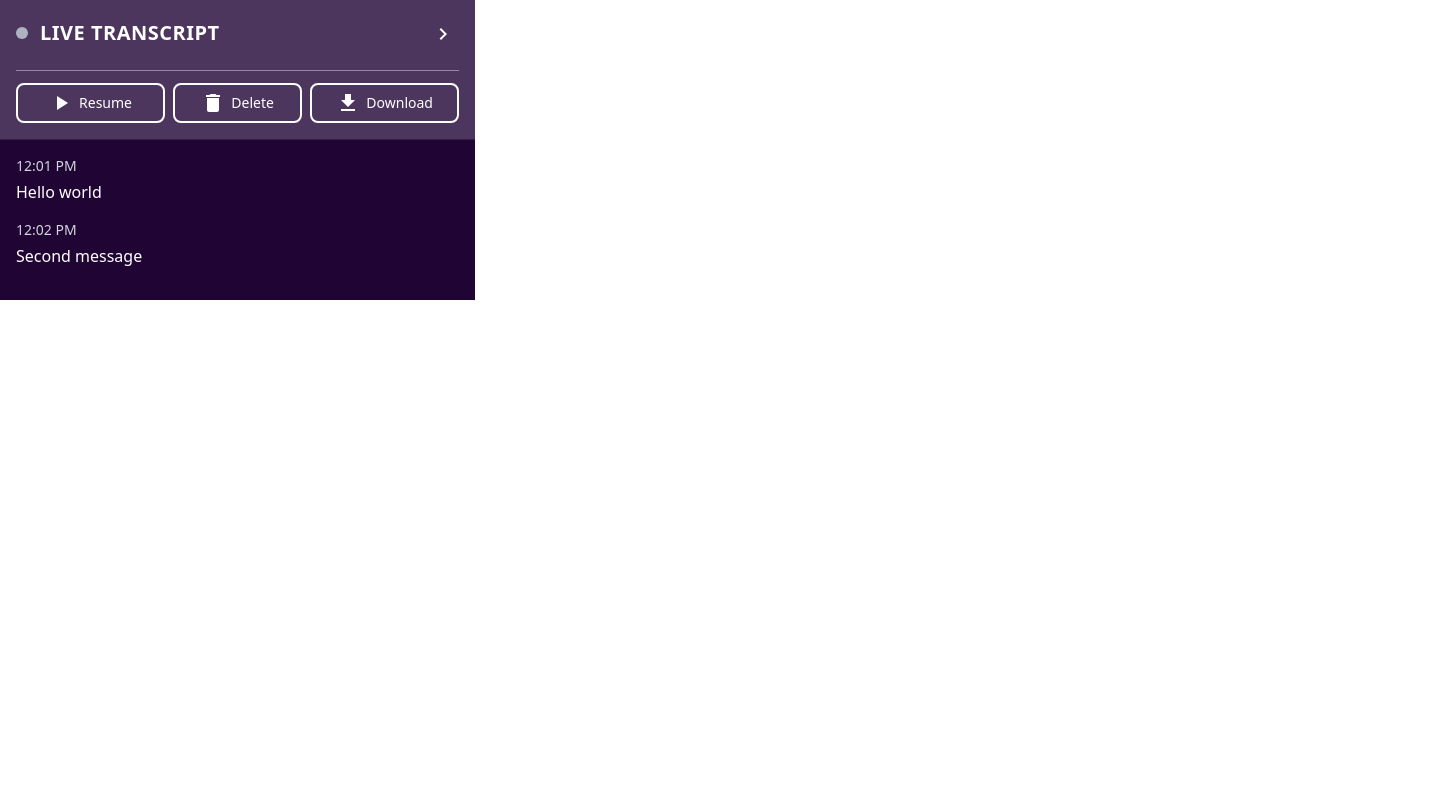
Test: Transcript › Transcript Controls › shows error when resume API fails
The width and height of the screenshot is (1440, 810).
Click the button with aria-label "Resume recording".
click(91, 103)  # box 16,83 -> 165,123
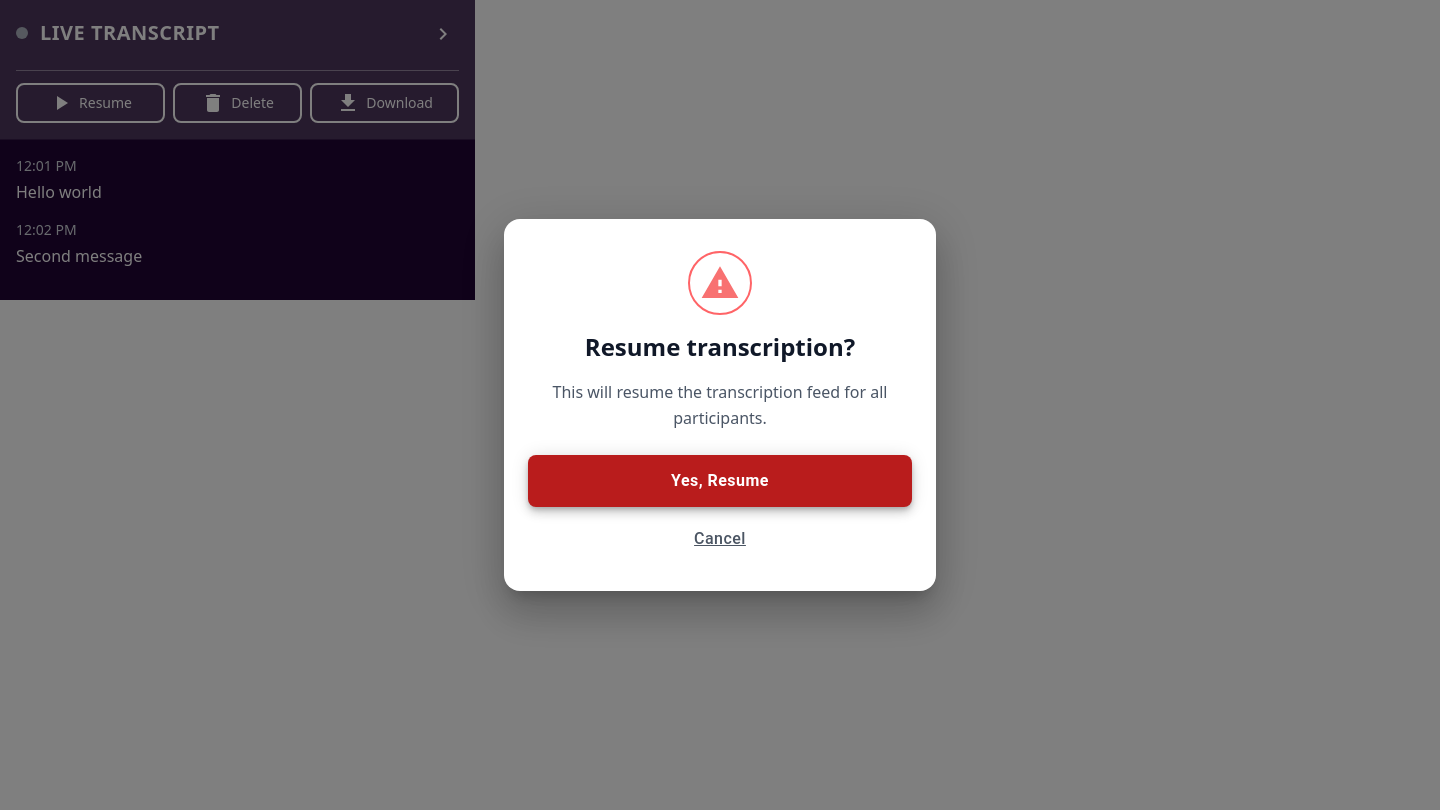
Expected: the button "Yes, Resume" is shown
Click the button "Yes, Resume".
click(720, 481)  # box 528,455 -> 912,507
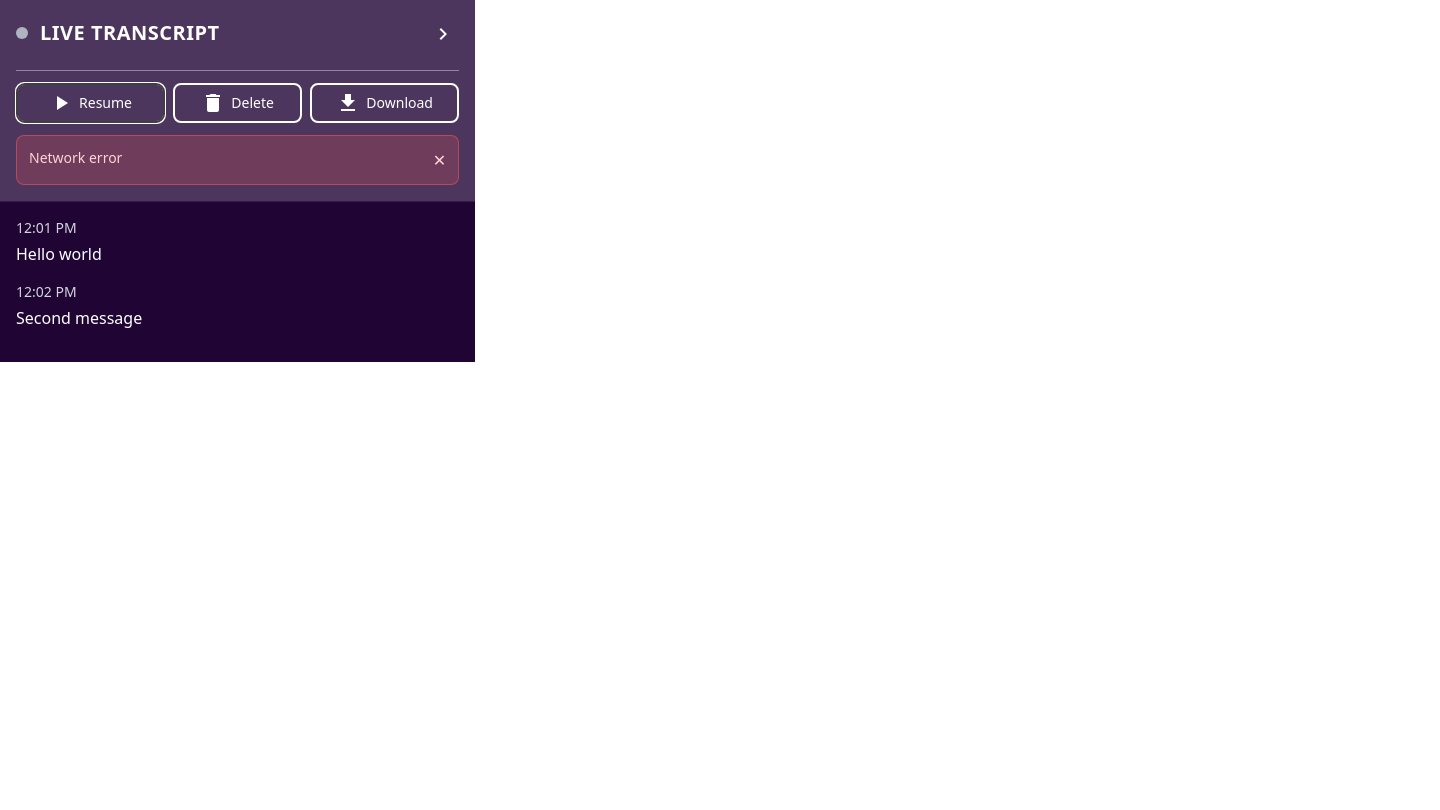
Expected: the text "Network error" is shown, 29,148 -> 122,168
